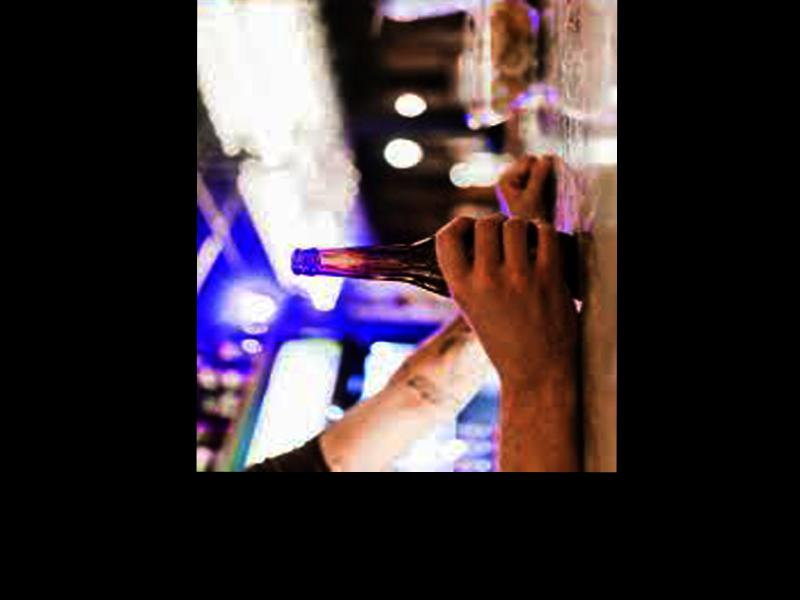Beer: (291, 233, 575, 296)
